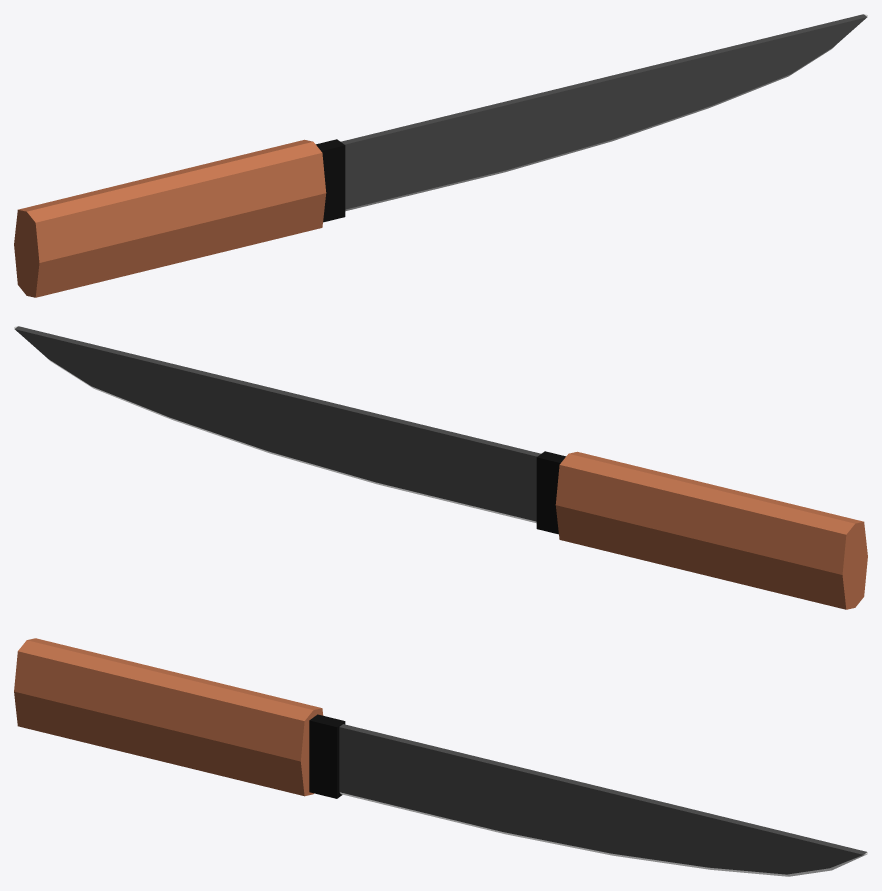
The model's file is tanto.glb.
The picture shows the model from 3 angles, top to bottom: view 1: azimuth 30°, elevation 25°; view 2: azimuth 150°, elevation 25°; view 3: azimuth 330°, elevation 25°; orthographic projection.
Visible parts, largest first — view 1: tanto; view 2: tanto; view 3: tanto.
Part boxes in pixels (<box>): tanto: <box>14,14,867,297</box>; tanto: <box>14,326,867,609</box>; tanto: <box>14,638,867,876</box>.
Bounding box in the file's own units: 0.3813 × 0.0365 × 0.02.
Materials: 1 (1 with a texture image).
